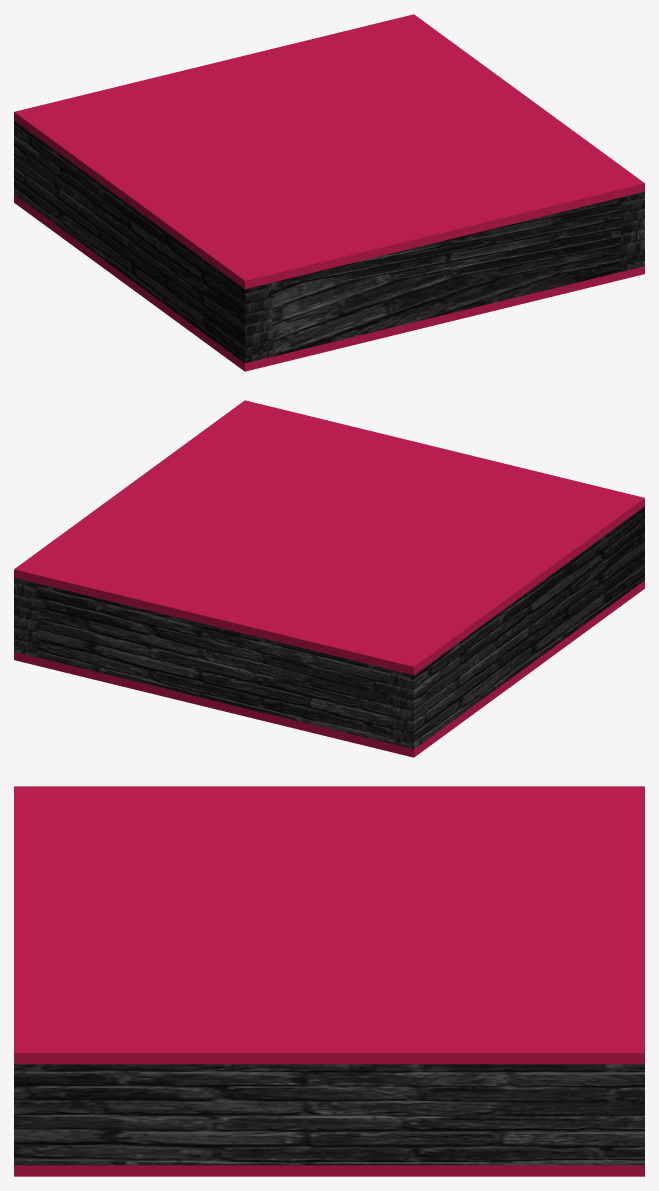
File: maze.obj
3 views of the same model, one above another, from view 1: azimuth 30°, elevation 25°; view 2: azimuth 150°, elevation 25°; view 3: azimuth 270°, elevation 25° (orthographic). The views are drawn at different scales.
Parts seen in each view (by area): view 1: cube1.011_Cube.001, cube1.007_Cube.011, cube1.001_Cube.004, cube1_Cube.003, cube1.002_Cube.006; view 2: cube1.011_Cube.001, cube1.006_Cube.010, cube1.001_Cube.004, cube1_Cube.003, cube1.002_Cube.006; view 3: cube1.011_Cube.001, cube1.002_Cube.006, cube1_Cube.003.
Part boxes in pixels (x1,y1,x2,y2): cube1.011_Cube.001: (14, 14, 644, 289); cube1.007_Cube.011: (271, 197, 623, 356); cube1.001_Cube.004: (14, 120, 272, 363); cube1_Cube.003: (14, 194, 644, 371); cube1.002_Cube.006: (621, 192, 644, 271); cube1.011_Cube.001: (14, 400, 644, 675); cube1.006_Cube.010: (35, 583, 387, 742); cube1.001_Cube.004: (386, 506, 644, 749); cube1_Cube.003: (14, 580, 644, 757); cube1.002_Cube.006: (14, 578, 37, 657); cube1.011_Cube.001: (14, 786, 644, 1064); cube1.002_Cube.006: (14, 1064, 644, 1165); cube1_Cube.003: (14, 1165, 644, 1176).
Bounding box in the file's own units: 200 × 43.36 × 200.
